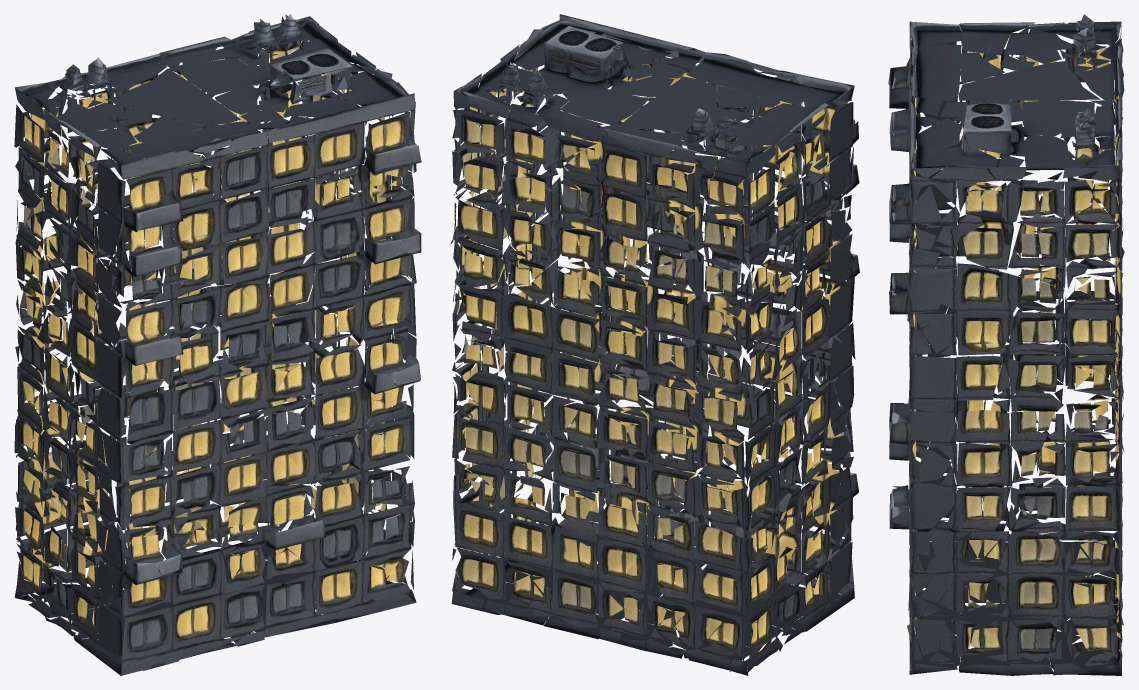
Rendered from earth_building_midrise_a.glb.
3 views of the same model, side by side, from view 1: azimuth 30°, elevation 25°; view 2: azimuth 150°, elevation 25°; view 3: azimuth 270°, elevation 25° (orthographic).
Visible parts, largest first — view 1: earth_building_midrise_a; view 2: earth_building_midrise_a; view 3: earth_building_midrise_a.
Part boxes in pixels (x1,y1,x2,y2): earth_building_midrise_a: (14, 14, 421, 675); earth_building_midrise_a: (450, 14, 859, 675); earth_building_midrise_a: (888, 14, 1124, 675).
Bounding box in the file's own units: 49.73 × 84.97 × 33.83.
Materials: 1 (1 with a texture image).
